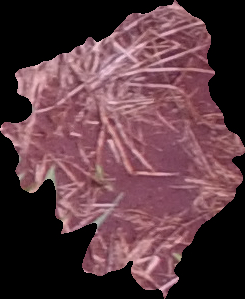soil: (2, 1, 244, 299)
